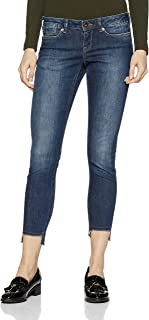jeans: (13, 11, 135, 239)
